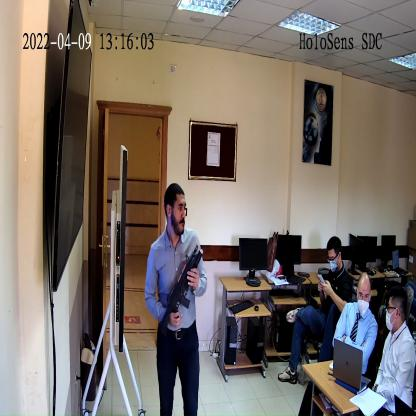handgun: (160, 251, 202, 340)
